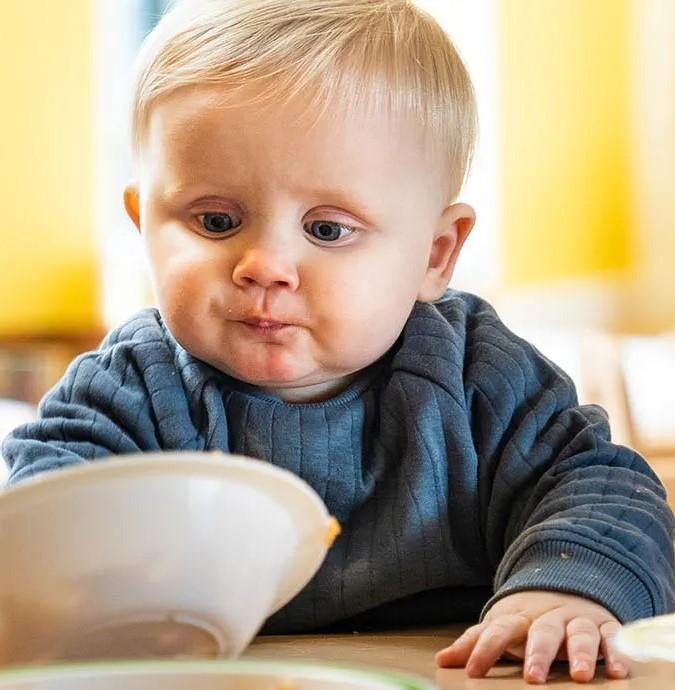Healthy: (123, 85, 473, 406)
